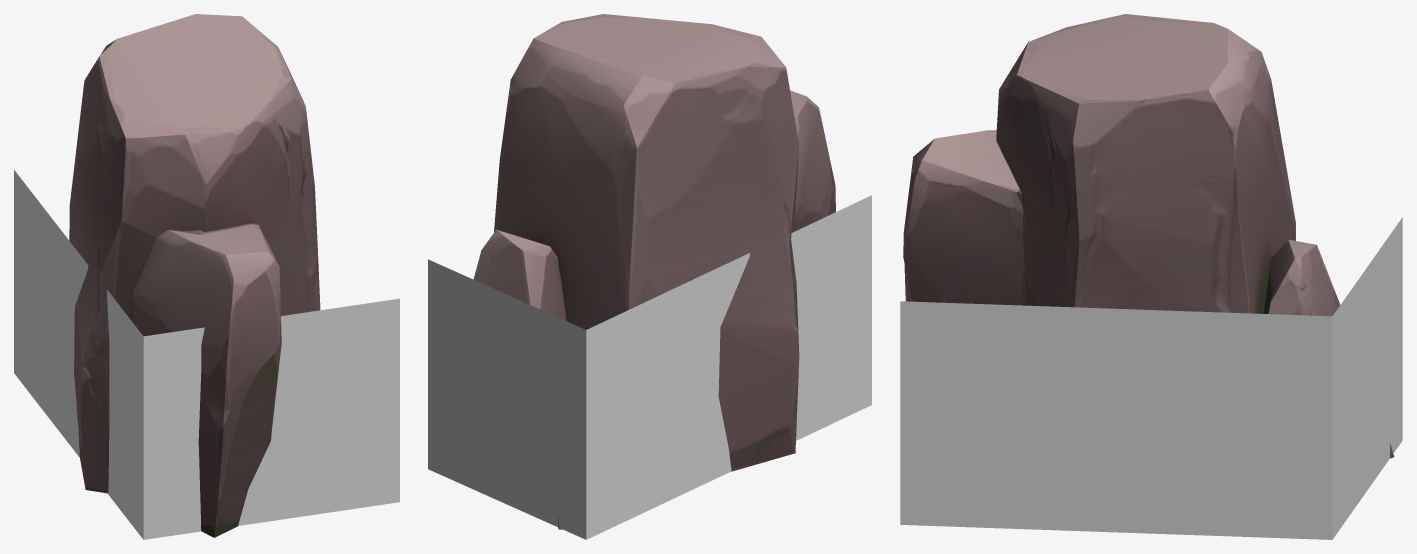
File: landmark boulder.glb
The picture shows the model from 3 angles, left to right: view 1: azimuth 30°, elevation 25°; view 2: azimuth 150°, elevation 25°; view 3: azimuth 270°, elevation 25°; orthographic projection. The views are drawn at different scales.
Visible parts, largest first — view 1: landmark-boulder, phy-body-main-trimesh-0kg-landmark-crystal; view 2: landmark-boulder, phy-body-main-trimesh-0kg-landmark-crystal; view 3: phy-body-main-trimesh-0kg-landmark-crystal, landmark-boulder.
Boxes of the visible parts, x1,y1,x2,y2 form: landmark-boulder: (69,14,320,537); phy-body-main-trimesh-0kg-landmark-crystal: (14,170,399,539); landmark-boulder: (473,14,835,529); phy-body-main-trimesh-0kg-landmark-crystal: (428,195,871,539); phy-body-main-trimesh-0kg-landmark-crystal: (900,217,1402,539); landmark-boulder: (903,14,1394,458).
Size of the model in its own units: 14.61 by 21.17 by 22.33.
Materials: 1 (1 with a texture image).
